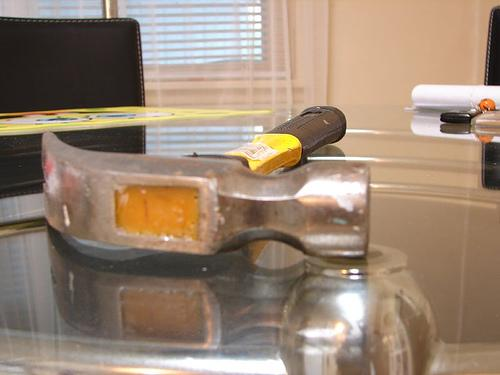hammer: (38, 102, 373, 259)
